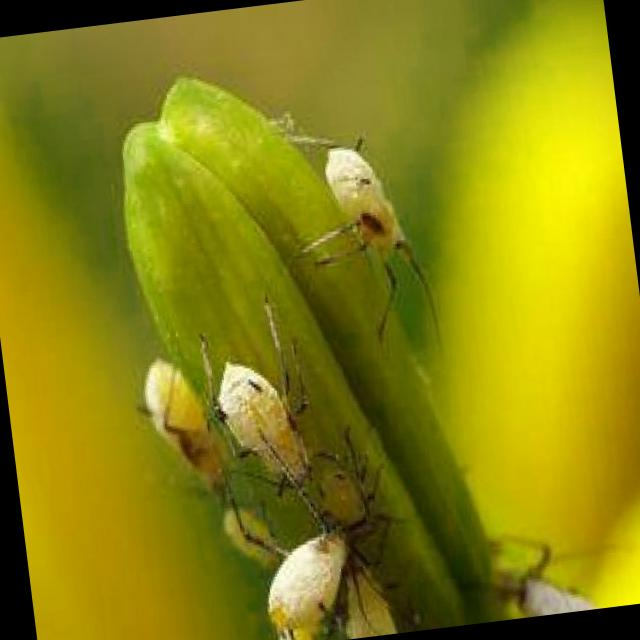aphid: (217, 339, 412, 640), (324, 122, 430, 300), (139, 354, 231, 503)
